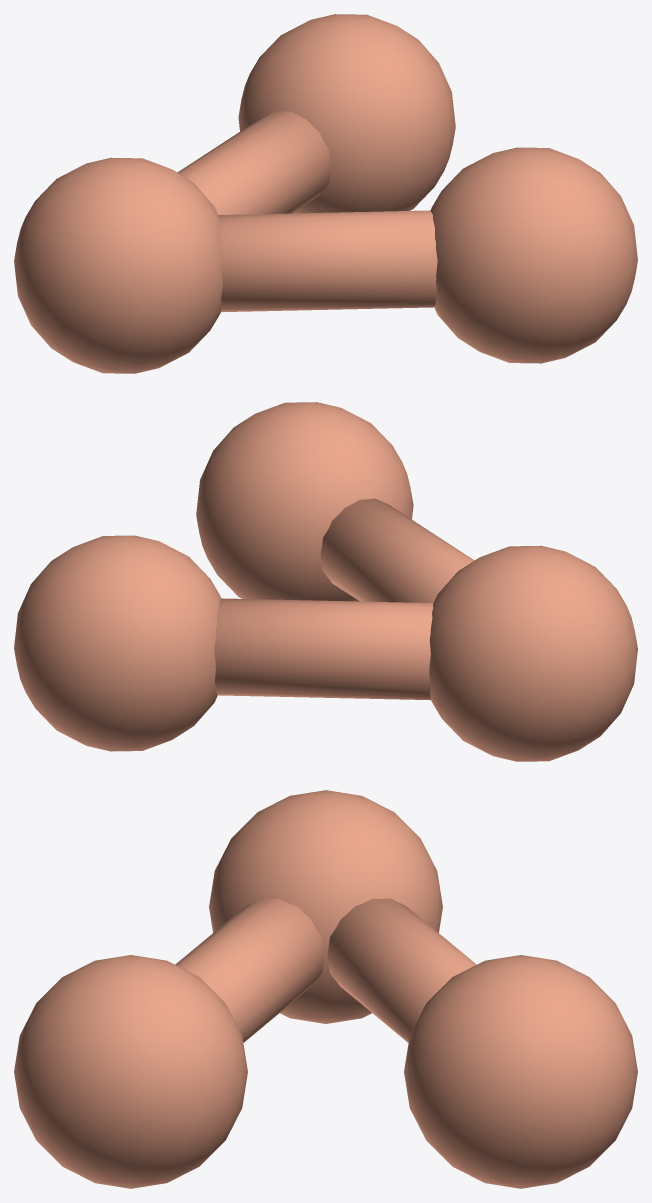
Rendered from society.glb.
3 views of the same model, one above another, from view 1: azimuth 30°, elevation 25°; view 2: azimuth 150°, elevation 25°; view 3: azimuth 270°, elevation 25° (orthographic). The views are drawn at different scales.
Parts seen in each view (by area): view 1: Society; view 2: Society; view 3: Society.
Part boxes in pixels (x1,y1,x2,y2): Society: (14,14,637,373); Society: (14,402,637,761); Society: (14,790,637,1188).
Bounding box in the file's own units: 0.936 × 0.351 × 0.936.
